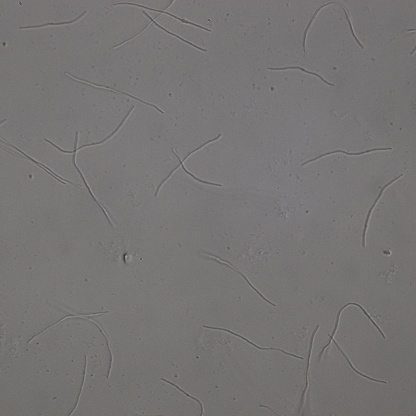Sensitive: (320, 301, 388, 384), (114, 1, 210, 53), (45, 104, 140, 154), (72, 131, 116, 227), (201, 250, 274, 306), (156, 133, 221, 194), (203, 324, 302, 359), (301, 1, 363, 53), (2, 139, 71, 185), (363, 174, 403, 245), (302, 145, 392, 164), (61, 355, 89, 416), (298, 326, 317, 412), (162, 378, 204, 416), (19, 10, 87, 31), (269, 66, 335, 86)
